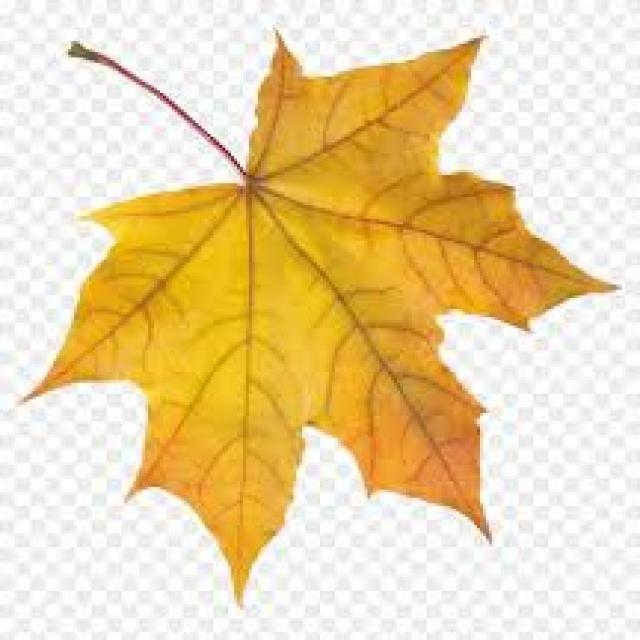leaf: (18, 26, 621, 608)
